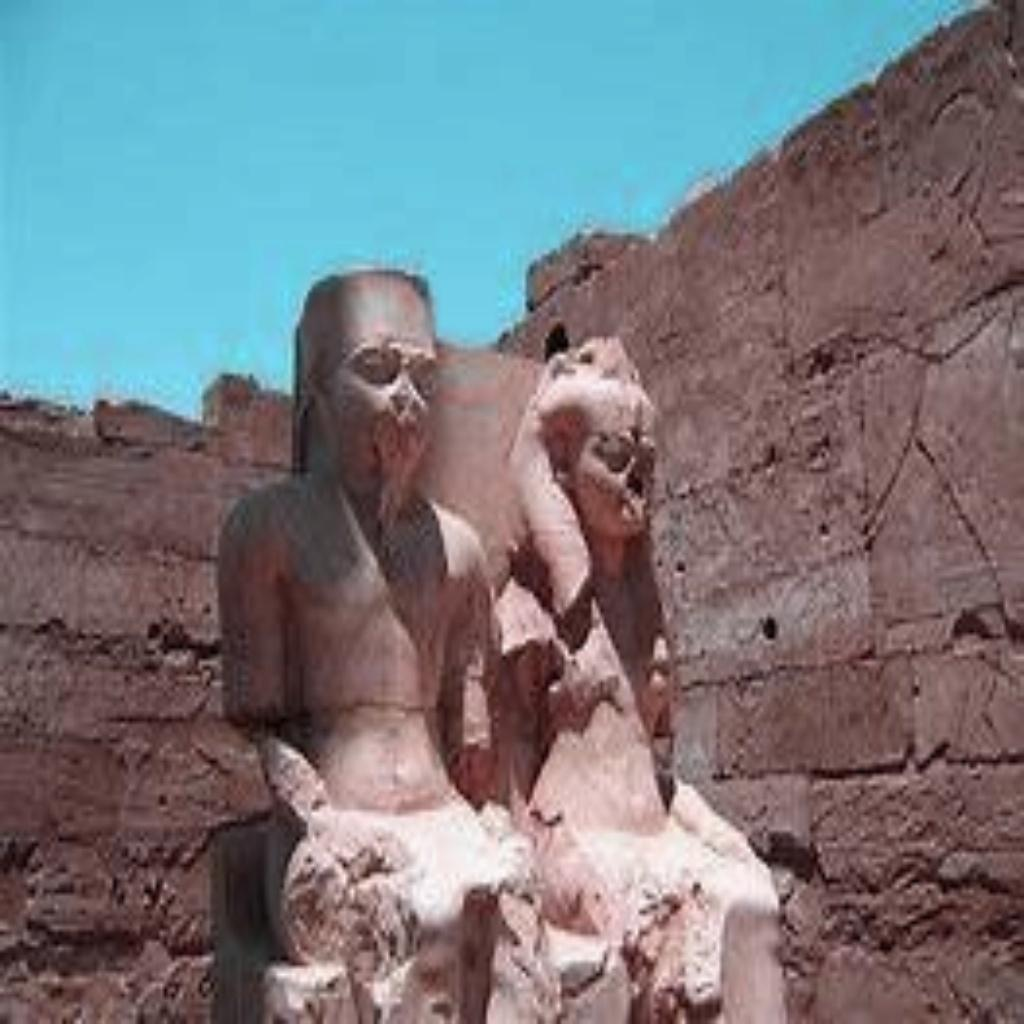Statue of Ankhesenamun: (492, 333, 786, 1024)
Statue of Tutankhamun: (222, 259, 556, 1024)
